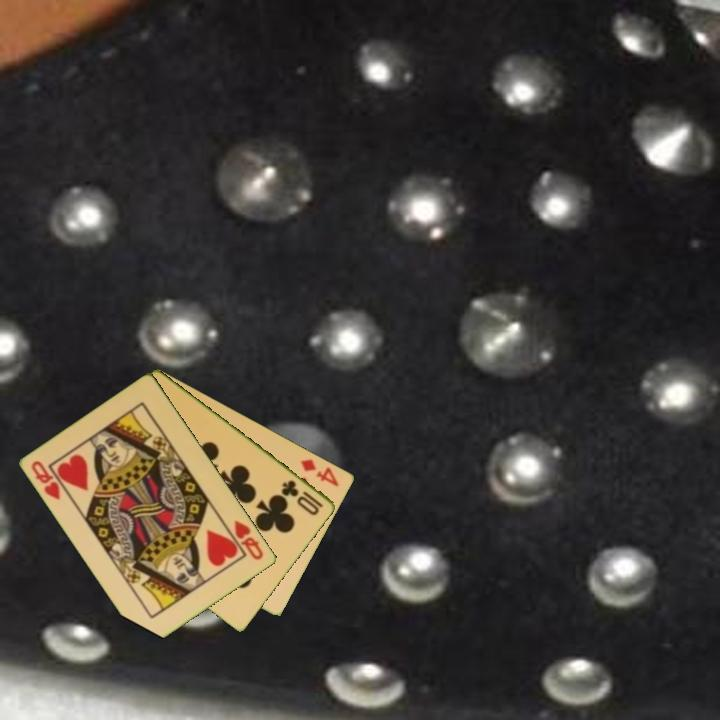10c: (278, 476, 326, 518)
4d: (298, 455, 342, 489)
Qh: (231, 517, 267, 563), (28, 457, 64, 503)
